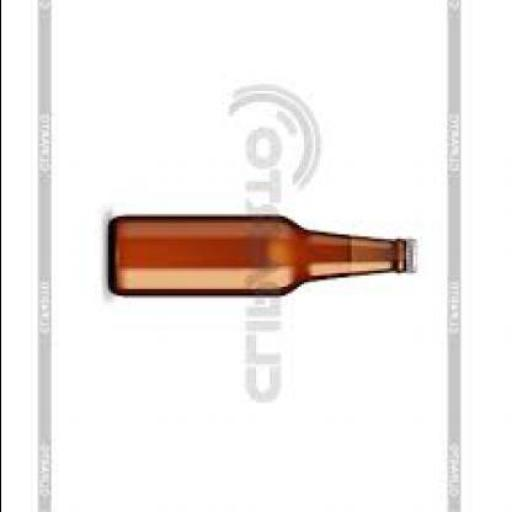glass: (109, 217, 405, 300)
metal: (407, 243, 421, 278)
